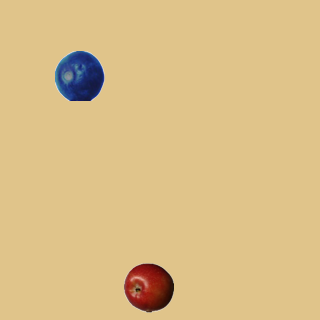Apple Braeburn: (123, 262, 173, 312)
Huckleberry: (54, 50, 104, 100)
